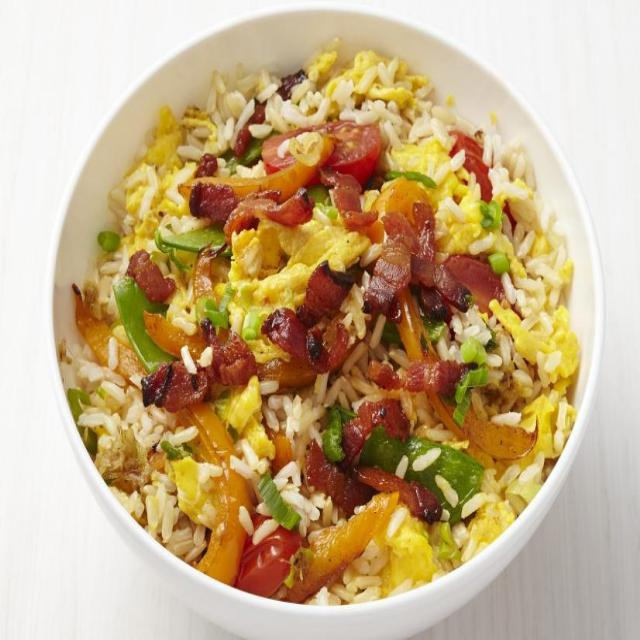Nasi Goreng: (65, 41, 581, 605)
